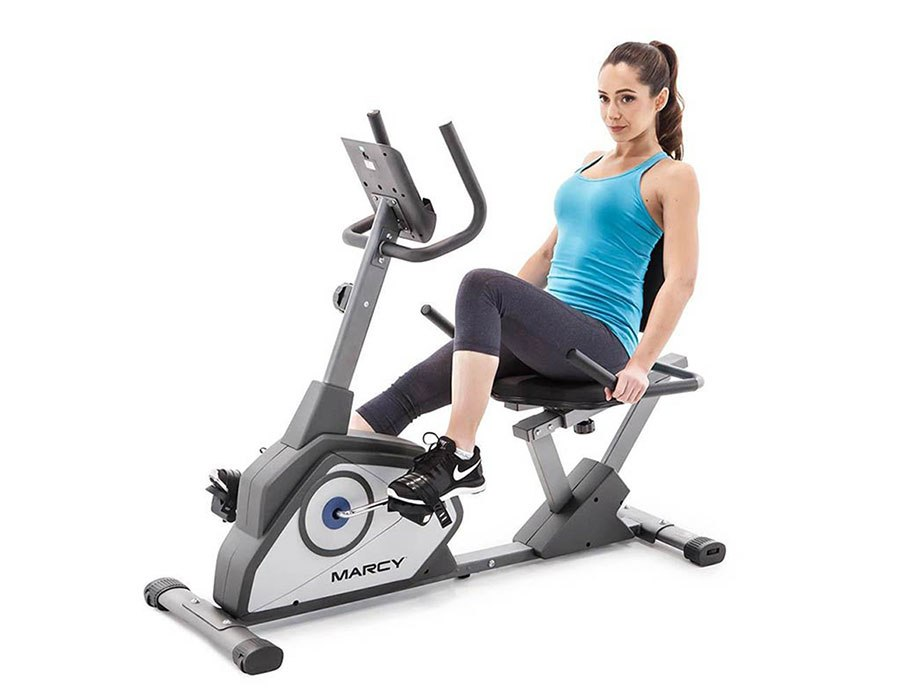gym_bike: (132, 104, 734, 653)
